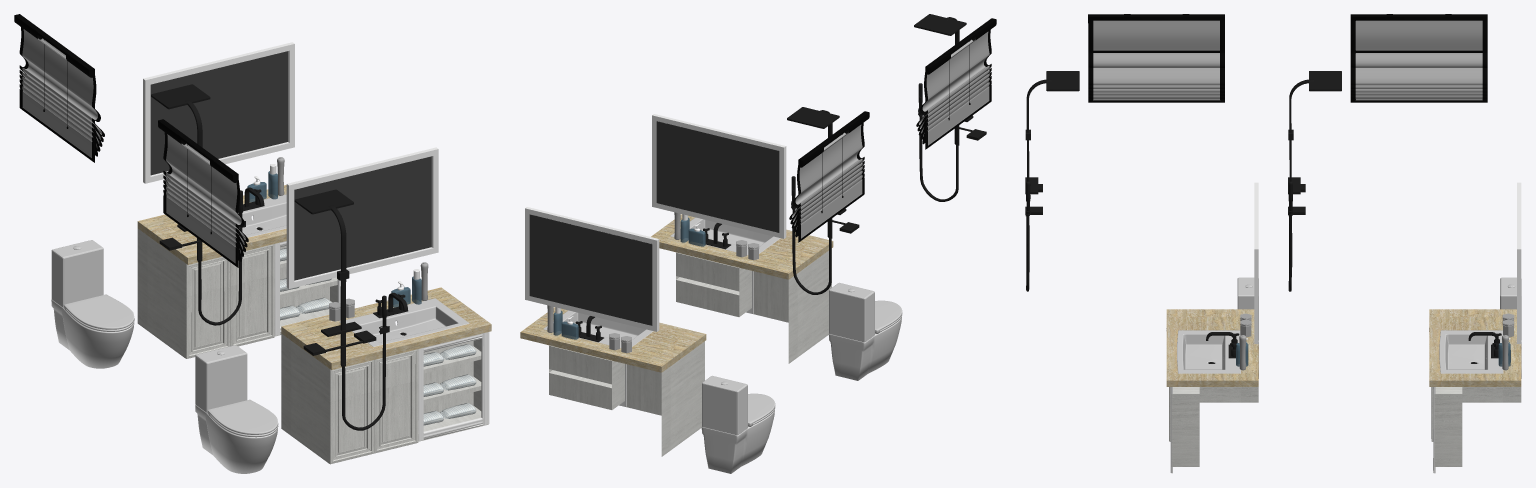
Rendered from sanitary ware.FBX.
The picture shows the model from 3 angles, left to right: view 1: azimuth 30°, elevation 25°; view 2: azimuth 150°, elevation 25°; view 3: azimuth 270°, elevation 25°; orthographic projection. The views are drawn at different scales.
Visible parts, largest first — view 1: Plane085, Plane086, Rectangle2106771930, Rectangle2106771941, wc, wc001, Object11469, Object11499, Line2062826017, Rectangle2106771929, obj_008, Rectangle2106771940 (+11 smaller); view 2: Rectangle2106771930, Rectangle2106771941, Plane086, Plane085, wc001, wc, Object11499, Object11469, Line2062826027, Line2062826017, Rectangle2106771940, Rectangle2106771929 (+8 smaller); view 3: Object11499, Object11469, Line2062826017, Line2062826027, Plane086, Plane085, Roman Shade_005, Roman Shade_004, Arch_056_016_020, Arch_056_016_017, obj_008, obj_009 (+4 smaller).
Boxes of the visible parts, x1,y1,x2,y2 form: Plane085: (281,333,488,464); Plane086: (137,228,337,358); Rectangle2106771930: (294,156,431,280); Rectangle2106771941: (150,51,287,175); wc: (195,345,278,473); wc001: (51,240,134,368); Object11469: (166,134,245,263); Object11499: (22,29,102,157); Line2062826017: (281,287,491,369); Rectangle2106771929: (286,147,438,288); obj_008: (294,189,389,430); Rectangle2106771940: (143,42,294,183); Rectangle2106771930: (656,121,779,232); Rectangle2106771941: (529,214,652,325); Plane086: (549,341,704,456); Plane085: (676,248,831,363); wc001: (701,375,775,473); wc: (829,282,902,380); Object11499: (792,124,862,238); Object11469: (919,31,989,145); Line2062826027: (520,307,706,372); Line2062826017: (651,214,833,279); Rectangle2106771940: (525,207,659,331); Rectangle2106771929: (652,114,786,238); Object11499: (1355,20,1482,100); Object11469: (1093,20,1219,100); Line2062826017: (1166,309,1258,386); Line2062826027: (1429,309,1521,386); Plane086: (1431,387,1521,466); Plane085: (1169,387,1258,466); Roman Shade_005: (1350,14,1487,102); Roman Shade_004: (1088,14,1224,102); Arch_056_016_020: (1439,330,1503,373); Arch_056_016_017: (1177,330,1240,373); obj_008: (1025,71,1079,291); obj_009: (1288,71,1341,291).
Bounding box in the file's own units: 2263 × 2557 × 3531.
